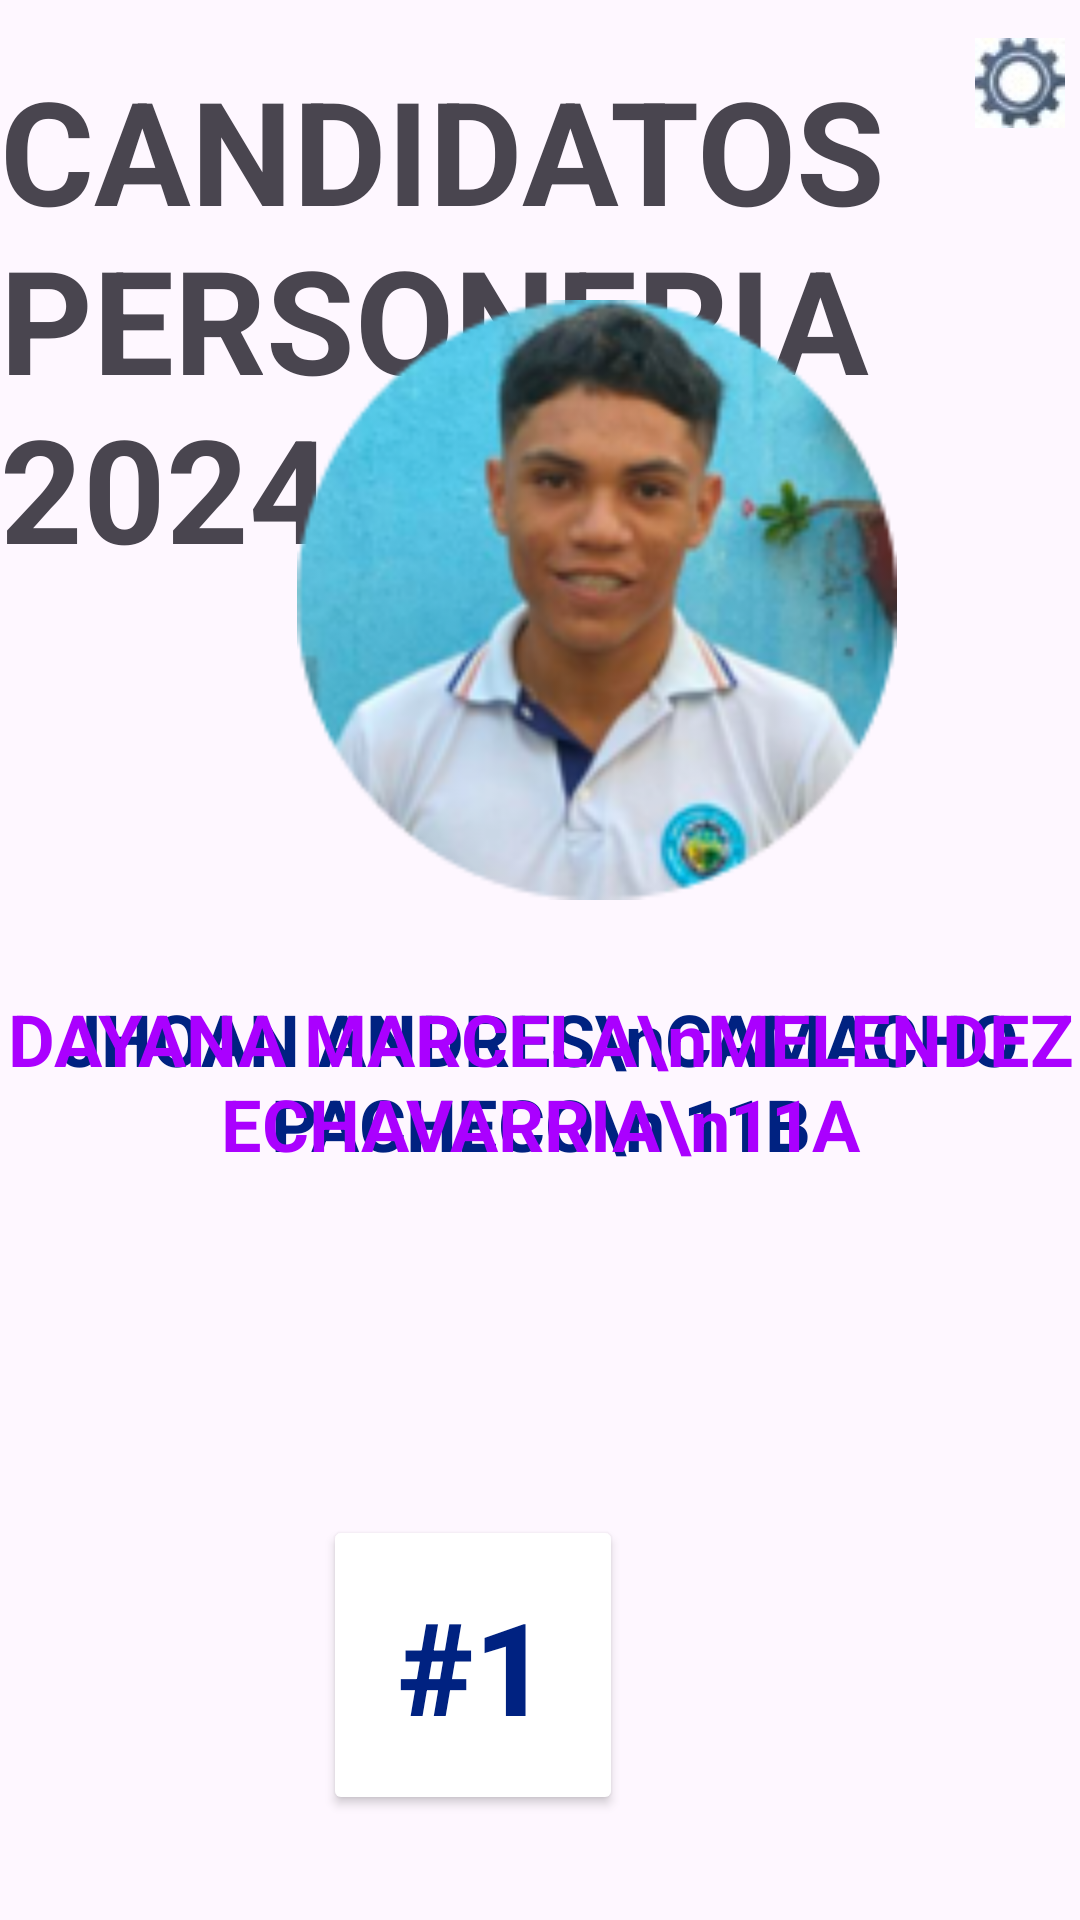

Point at icon controls on the screen. Image size 1080x1920, points as (x=x, y=y).
confi personalizado: (x=1020, y=83)
